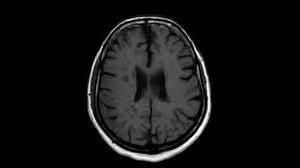Normal_Brain: (65, 4, 236, 168)
